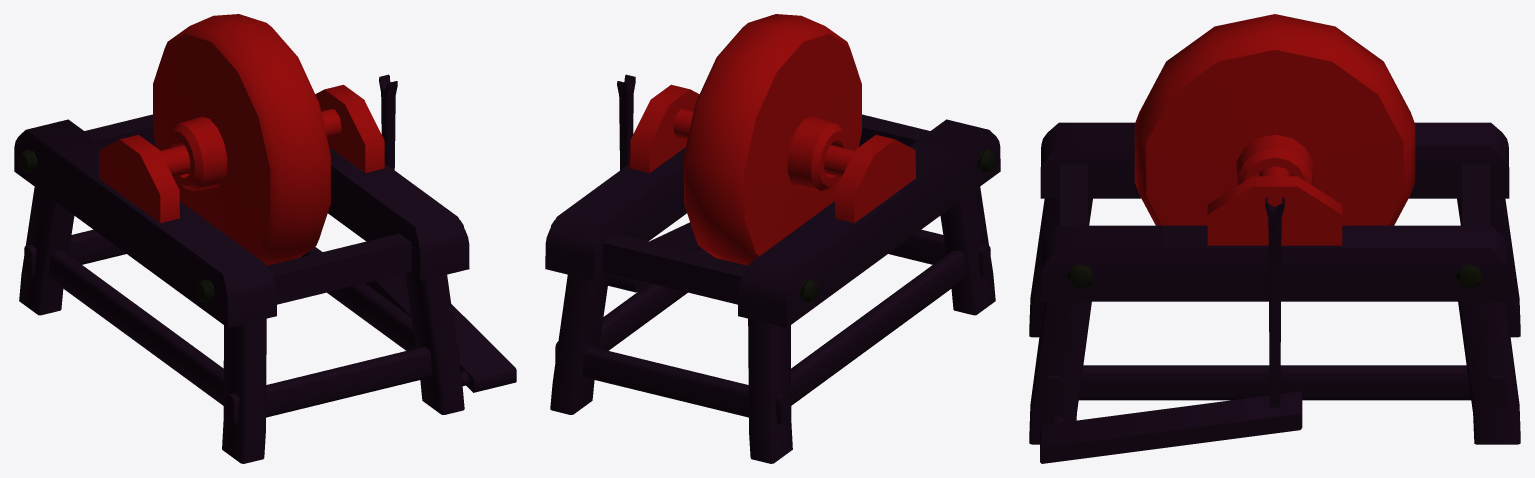
The model's file is Roda_De_Afiar_Low.fbx.
3 renders of one model, left to right at view 1: azimuth 30°, elevation 25°; view 2: azimuth 150°, elevation 25°; view 3: azimuth 270°, elevation 25°, orthographic. The views are drawn at different scales.
Parts seen in each view (by area): view 1: Roda_De_Afiar_low; view 2: Roda_De_Afiar_low; view 3: Roda_De_Afiar_low.
Boxes of the visible parts, x1,y1,x2,y2 form: Roda_De_Afiar_low: (14,14,516,463); Roda_De_Afiar_low: (545,14,1000,463); Roda_De_Afiar_low: (1029,14,1520,463).
Size of the model in its own units: 104 by 110 by 135.
